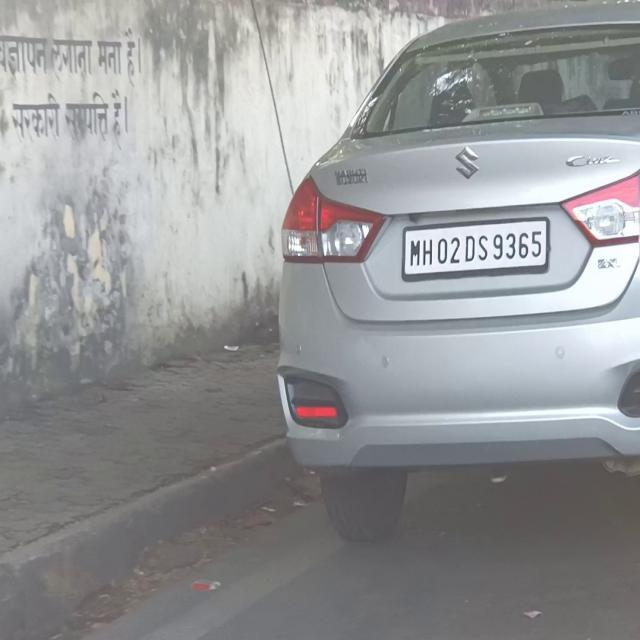Plate: (404, 221, 548, 275)
